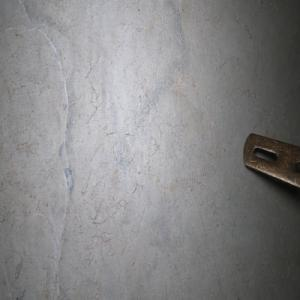MetalPart: (242, 131, 300, 193)
